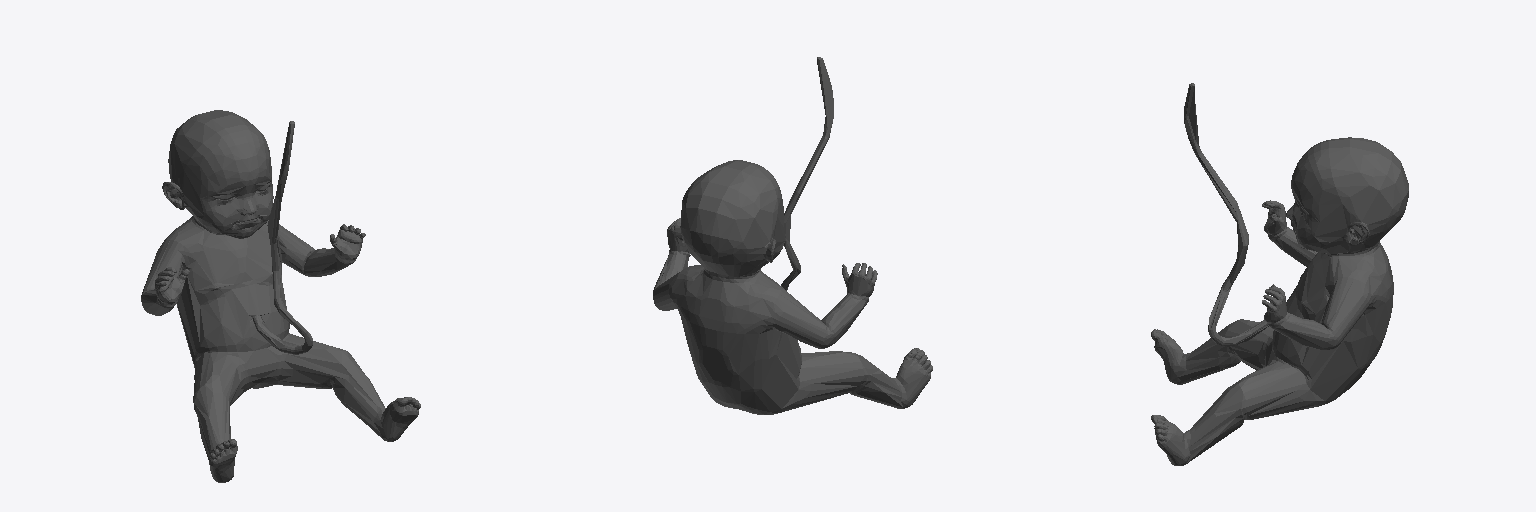
File: foetus-lq.obj
The picture shows the model from 3 angles: view 1: azimuth 30°, elevation 25°; view 2: azimuth 150°, elevation 25°; view 3: azimuth 270°, elevation 25°; orthographic projection.
Parts seen in each view (by area): view 1: Bebe.001_Untitled.001, Cordon1_Untitled; view 2: Bebe.001_Untitled.001, Cordon1_Untitled; view 3: Bebe.001_Untitled.001, Cordon1_Untitled.
Part boxes in pixels (x1,y1,x2,y2): Bebe.001_Untitled.001: (141,110,420,482); Cordon1_Untitled: (253,121,312,354); Bebe.001_Untitled.001: (653,160,932,414); Cordon1_Untitled: (781,57,833,290); Bebe.001_Untitled.001: (1151,137,1408,465); Cordon1_Untitled: (1184,83,1268,346).
Size of the model in its own units: 1.81 by 2.78 by 1.94.